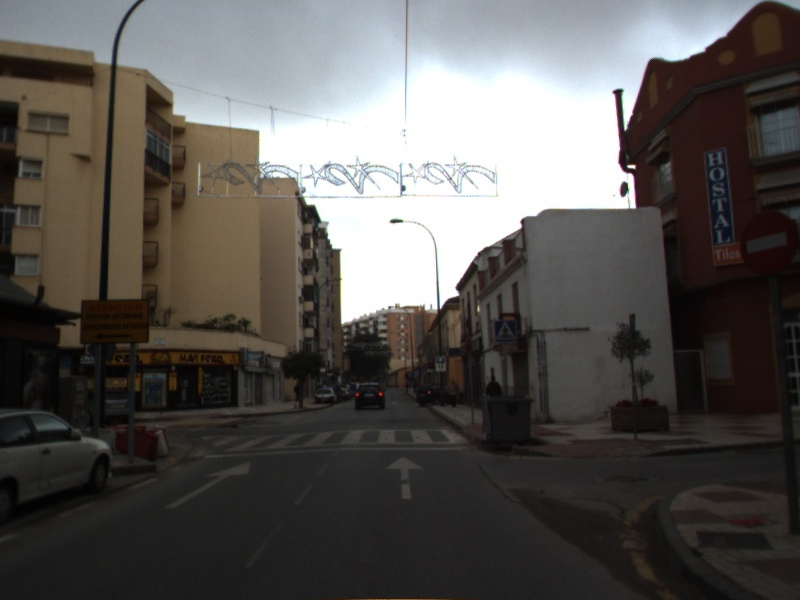STRAIGHT: (163, 459, 253, 511), (383, 454, 426, 501)
